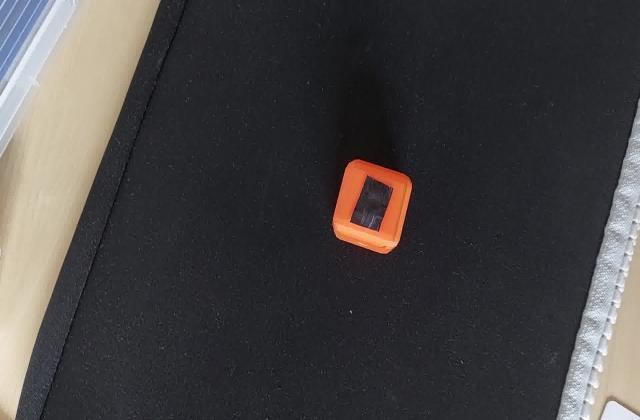black: (346, 180, 398, 232)
sticker: (330, 157, 414, 259)
